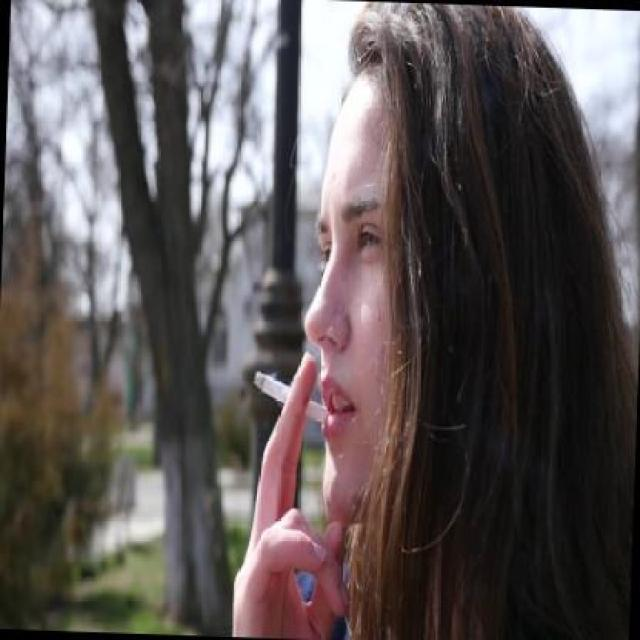smoke: (248, 368, 330, 427)
